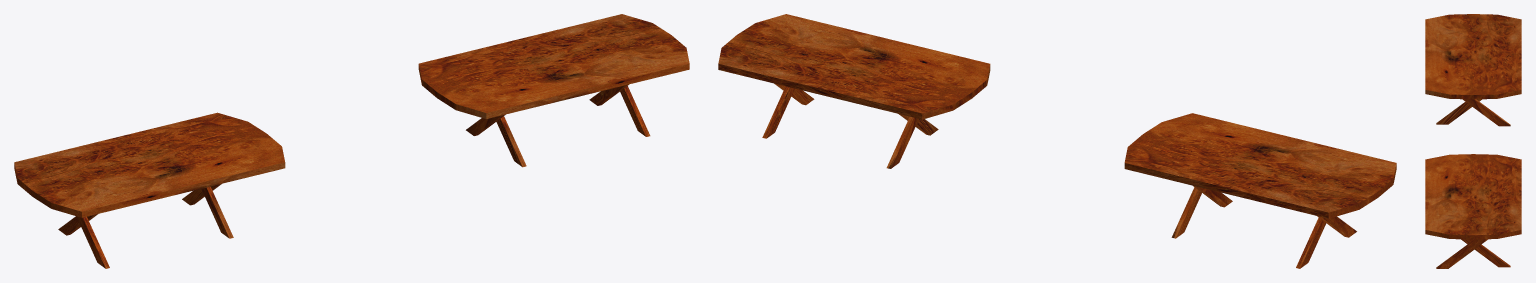
File: table.obj
3 views of the same model, side by side, from view 1: azimuth 30°, elevation 25°; view 2: azimuth 150°, elevation 25°; view 3: azimuth 270°, elevation 25° (orthographic). The views are drawn at different scales.
Size of the model in its own units: 21.81 by 2.3 by 4.
Materials: 1 (1 with a texture image).
